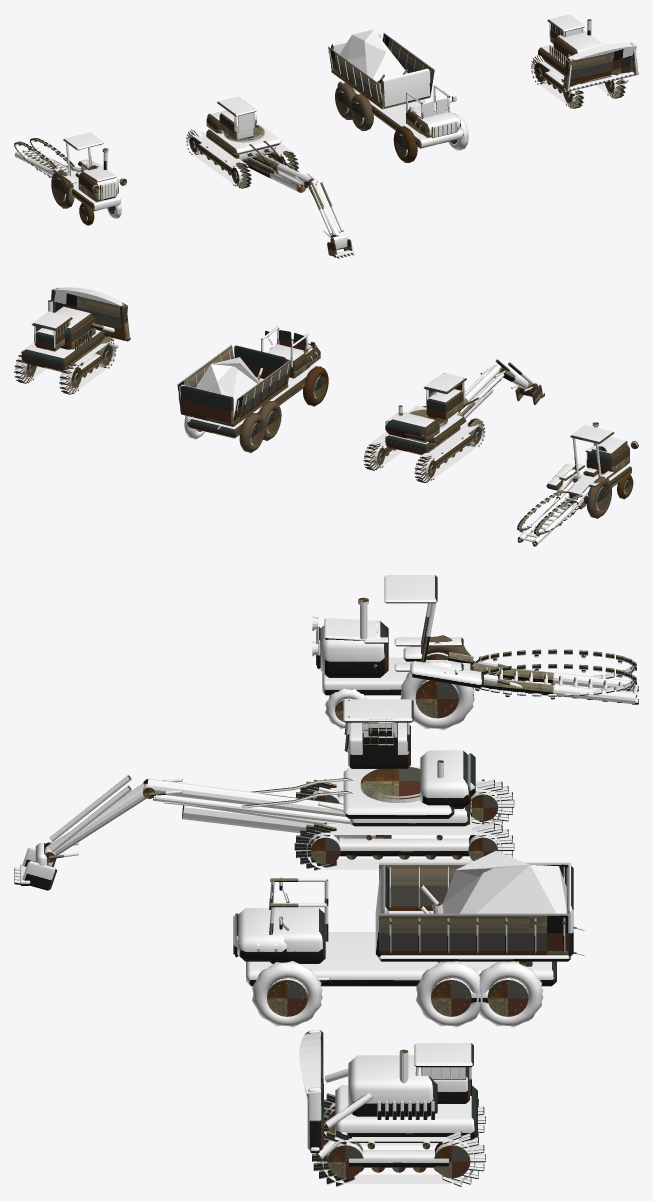
Rendered from machines-1.glb.
The picture shows the model from 3 angles, top to bottom: view 1: azimuth 30°, elevation 25°; view 2: azimuth 150°, elevation 25°; view 3: azimuth 270°, elevation 25°; orthographic projection. The views are drawn at different scales.
Visible parts, largest first — view 1: dozer curved welded mouldboard, dump load wet brown earth, dump tray headboard, dump truck ladder frame, dump tray rolled side wall, excavator track -1.2 heavy track belt, excavator low swing deck, dozer engine hood, dump tray rolled side wall.001, dump truck bonnet, trencher tractor pressed chassis, trencher tractor engine bonnet (+11 smaller); view 2: dozer curved welded mouldboard, dump load wet brown earth, dump tray tailgate, dozer main chassis, dump truck ladder frame, dump tray rolled side wall, excavator track -1.2 heavy track belt, dump tray headboard, dozer engine hood, excavator engine counterweight, excavator cab lower tub, trencher tractor engine bonnet (+18 smaller); view 3: dump tray rolled side wall.001, dump load wet brown earth, dump truck ladder frame, dozer engine hood, dozer main chassis, dump tray rolled side wall, trencher tractor engine bonnet, excavator engine counterweight, excavator track 1.2 heavy track belt, dump truck cab lower sill, excavator low swing deck, excavator boom upper beam (+32 smaller).
Boxes of the visible parts, <box> form: dozer curved welded mouldboard: <box>565,42,636,86</box>; dump load wet brown earth: <box>340,29,407,81</box>; dump tray headboard: <box>380,68,430,107</box>; dump truck ladder frame: <box>337,81,463,148</box>; dump tray rolled side wall: <box>328,46,382,105</box>; excavator track -1.2 heavy track belt: <box>187,132,250,185</box>; excavator low swing deck: <box>207,122,281,155</box>; dozer engine hood: <box>553,30,603,61</box>; dump tray rolled side wall.001: <box>382,33,434,92</box>; dump truck bonnet: <box>414,110,460,137</box>; trencher tractor pressed chassis: <box>66,171,120,211</box>; trencher tractor engine bonnet: <box>78,166,118,202</box>; dozer curved welded mouldboard: <box>51,287,127,340</box>; dump load wet brown earth: <box>195,357,259,414</box>; dump tray tailgate: <box>180,384,233,424</box>; dozer main chassis: <box>21,330,104,371</box>; dump truck ladder frame: <box>187,364,322,438</box>; dump tray rolled side wall: <box>232,359,291,424</box>; excavator track -1.2 heavy track belt: <box>415,422,483,479</box>; dump tray headboard: <box>233,345,287,384</box>; dozer engine hood: <box>55,306,95,349</box>; excavator engine counterweight: <box>385,412,439,443</box>; excavator cab lower tub: <box>426,389,463,420</box>; trencher tractor engine bonnet: <box>586,444,629,474</box>; dump tray rolled side wall.001: <box>379,913,570,956</box>; dump load wet brown earth: <box>442,851,566,913</box>; dump truck ladder frame: <box>246,932,556,986</box>; dozer engine hood: <box>348,1055,437,1116</box>; dozer main chassis: <box>335,1085,477,1142</box>; dump tray rolled side wall: <box>379,862,570,910</box>; trencher tractor engine bonnet: <box>320,620,388,677</box>; excavator engine counterweight: <box>420,750,471,808</box>; excavator track 1.2 heavy track belt: <box>306,824,502,869</box>; dump truck cab lower sill: <box>270,908,325,963</box>; excavator low swing deck: <box>343,767,454,818</box>; excavator boom upper beam: <box>147,778,345,816</box>.
Size of the model in its own units: 27.8 by 4.38 by 14.67.
Materials: 5 (4 with a texture image).
